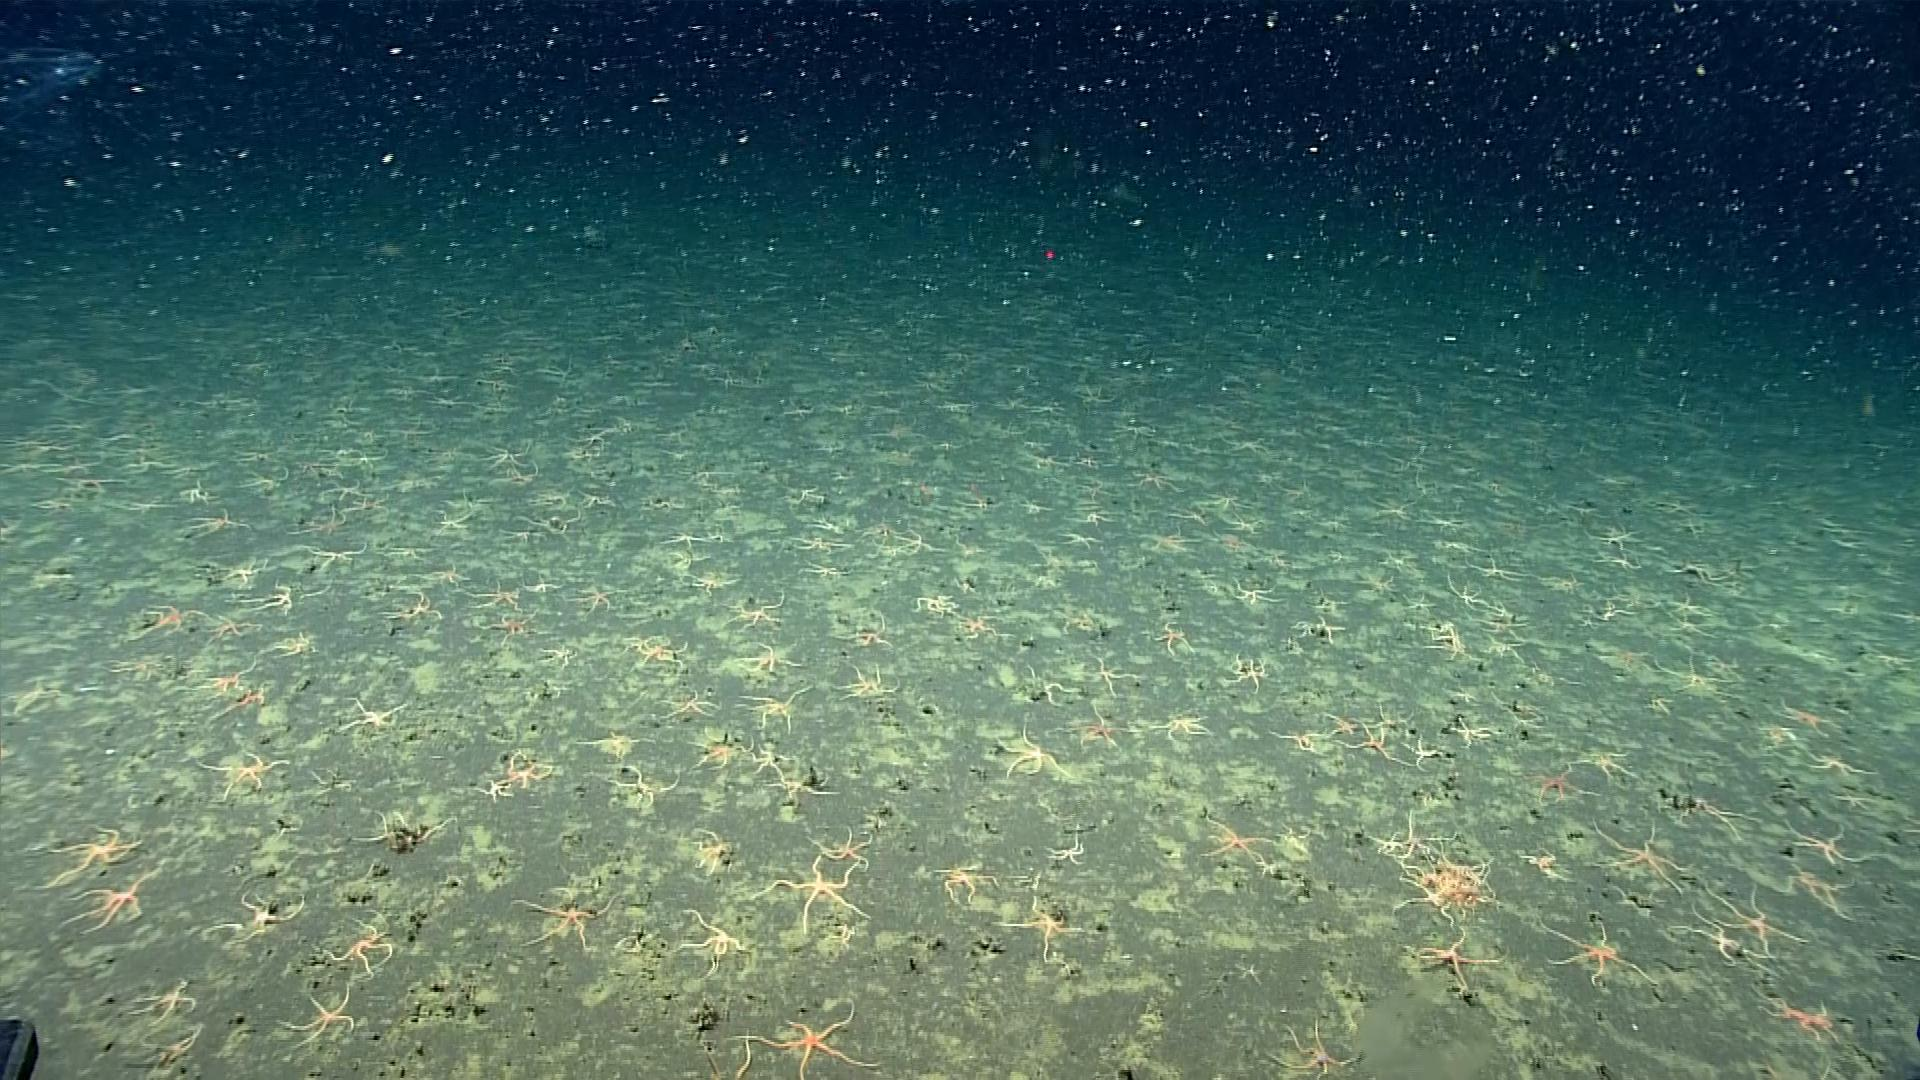brittle_sea_star: (727, 1001, 882, 1071), (740, 843, 865, 911), (55, 857, 166, 932), (1540, 922, 1658, 990), (1590, 816, 1689, 897), (33, 815, 144, 886), (1708, 885, 1813, 959), (1407, 931, 1510, 1005), (509, 882, 618, 948), (990, 891, 1085, 957), (273, 976, 359, 1044), (313, 907, 398, 976), (203, 884, 309, 939), (1669, 897, 1751, 967), (673, 903, 750, 973), (1785, 862, 1869, 927), (196, 742, 290, 796), (1755, 989, 1842, 1046), (989, 717, 1067, 775), (1669, 790, 1762, 837), (353, 806, 459, 847), (1063, 694, 1141, 748), (1191, 816, 1269, 865), (796, 811, 870, 861), (125, 971, 199, 1019), (735, 676, 810, 724), (120, 596, 207, 637), (1652, 647, 1730, 692), (1791, 822, 1862, 869), (928, 851, 996, 901), (1072, 645, 1139, 695), (1336, 719, 1411, 764), (1395, 804, 1458, 857), (1519, 757, 1598, 799), (331, 690, 411, 731), (473, 601, 553, 640), (607, 754, 676, 796), (136, 1014, 206, 1056), (828, 655, 901, 695), (178, 654, 260, 688), (719, 584, 786, 625), (1018, 657, 1073, 705), (1767, 696, 1842, 732), (828, 608, 897, 646), (208, 676, 270, 719), (179, 501, 249, 537), (686, 717, 741, 762), (736, 634, 803, 671), (1573, 742, 1640, 779), (1800, 746, 1875, 779), (294, 535, 369, 567), (765, 758, 831, 794), (1390, 870, 1445, 913), (1515, 839, 1572, 880), (1146, 702, 1216, 735), (287, 498, 347, 535), (691, 824, 736, 873), (376, 584, 442, 617), (1220, 647, 1270, 690), (947, 608, 1013, 640), (510, 502, 585, 530), (650, 688, 719, 719), (236, 576, 297, 611), (1143, 613, 1197, 651), (500, 746, 555, 783), (462, 574, 524, 607), (1664, 553, 1734, 582), (203, 607, 261, 641), (1469, 549, 1527, 583), (1444, 570, 1495, 607), (258, 625, 320, 655), (578, 728, 644, 756), (1357, 699, 1419, 728), (738, 728, 782, 769), (215, 553, 278, 580), (1138, 525, 1204, 551), (1230, 571, 1283, 604), (1296, 605, 1345, 641), (1400, 727, 1444, 766), (1445, 709, 1491, 746), (910, 583, 959, 617), (781, 527, 851, 551), (413, 555, 472, 583), (1267, 723, 1324, 750), (1590, 517, 1647, 545), (658, 521, 720, 546), (1484, 632, 1532, 663), (1042, 824, 1083, 860), (433, 500, 476, 533), (1825, 782, 1882, 807), (564, 583, 617, 609), (682, 564, 737, 589), (1476, 612, 1531, 637), (893, 524, 936, 555), (1051, 601, 1096, 632), (632, 638, 683, 665), (105, 649, 165, 671), (475, 439, 530, 463), (1424, 629, 1473, 655), (1196, 483, 1250, 506), (1320, 707, 1364, 736), (1218, 506, 1269, 531), (1352, 570, 1402, 595), (795, 554, 851, 576), (1369, 493, 1414, 520), (1506, 699, 1549, 724), (345, 488, 390, 512), (1166, 500, 1211, 524), (1127, 465, 1178, 487), (1431, 531, 1481, 553), (571, 484, 615, 508), (1423, 506, 1466, 530), (1548, 566, 1588, 591), (1308, 585, 1349, 609), (473, 773, 513, 796), (1369, 829, 1404, 856), (1232, 961, 1267, 986), (1668, 588, 1704, 613), (1418, 613, 1460, 634), (1669, 613, 1712, 634), (319, 475, 364, 495), (1600, 549, 1640, 570), (1058, 526, 1101, 546), (1400, 587, 1436, 611), (1375, 543, 1411, 567), (1593, 596, 1633, 617), (1636, 688, 1672, 711), (1015, 493, 1052, 512), (1073, 508, 1110, 525), (1643, 588, 1668, 612), (1486, 599, 1519, 615), (1325, 543, 1346, 559)
